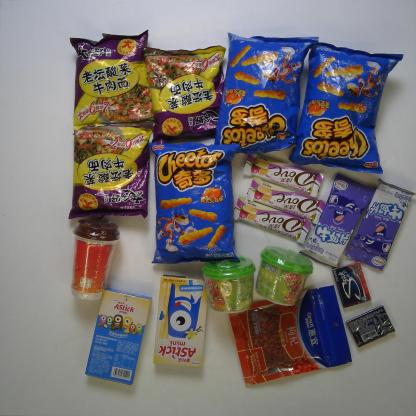Candy: (297, 172, 377, 272), (344, 177, 415, 271)
Chocolate: (230, 193, 318, 244), (240, 176, 327, 224), (241, 152, 326, 198)
Dessert: (82, 286, 152, 387), (152, 273, 210, 369)
Dried Fruit: (228, 285, 353, 388)
Gum: (346, 304, 396, 348), (331, 260, 372, 308)
Instant Drink: (68, 218, 122, 302), (253, 244, 314, 309), (202, 254, 254, 314)
Instant Noodles: (142, 43, 232, 143), (67, 31, 156, 130), (68, 123, 150, 220)
Puffed Food: (288, 38, 403, 174), (213, 30, 320, 156), (150, 140, 238, 265)
